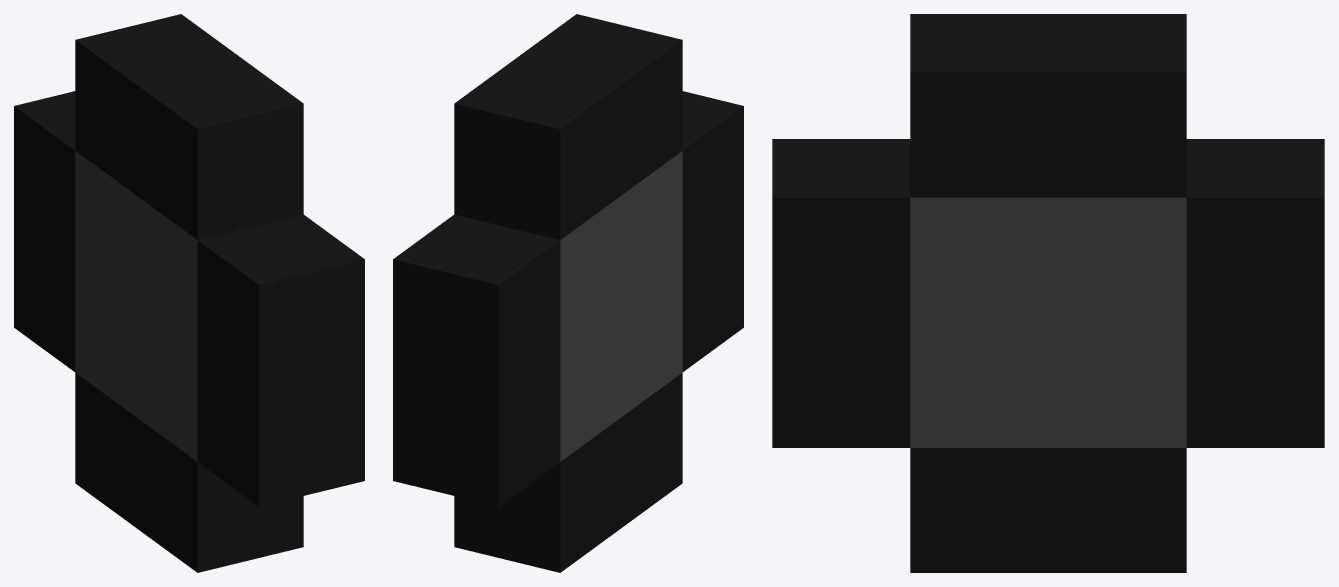
The model's file is SupplyTruck-0.obj.
The picture shows the model from 3 angles, left to right: view 1: azimuth 30°, elevation 25°; view 2: azimuth 150°, elevation 25°; view 3: azimuth 270°, elevation 25°; orthographic projection. The views are drawn at different scales.
Parts seen in each view (by area): view 1: SupplyTruck-0; view 2: SupplyTruck-0; view 3: SupplyTruck-0.
Boxes of the visible parts, bbox=[...] form: SupplyTruck-0: bbox=[14, 14, 364, 572]; SupplyTruck-0: bbox=[393, 14, 743, 572]; SupplyTruck-0: bbox=[772, 14, 1324, 572].
Bounding box in the file's own units: 1 × 4 × 4.
Materials: 1 (1 with a texture image).
